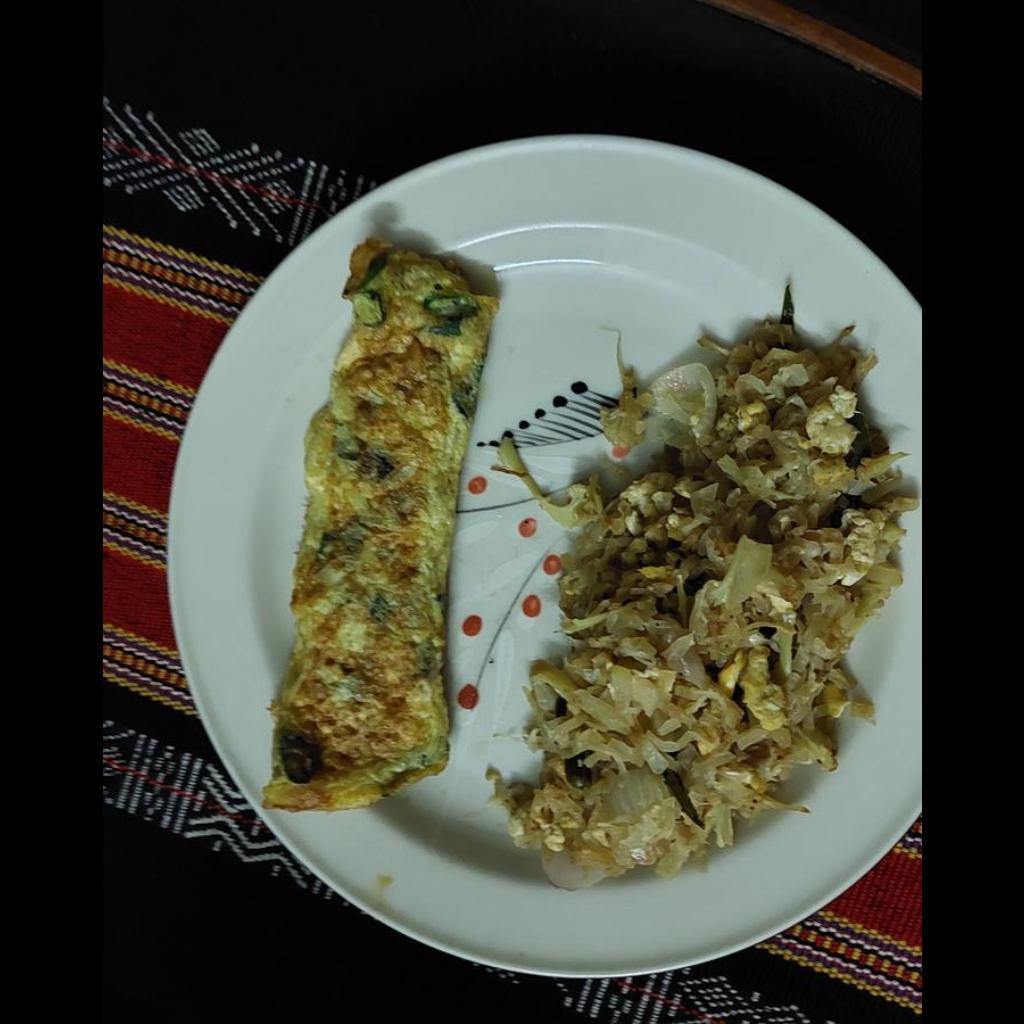egg-poached: (256, 248, 494, 814)
vaji: (500, 319, 914, 883)
